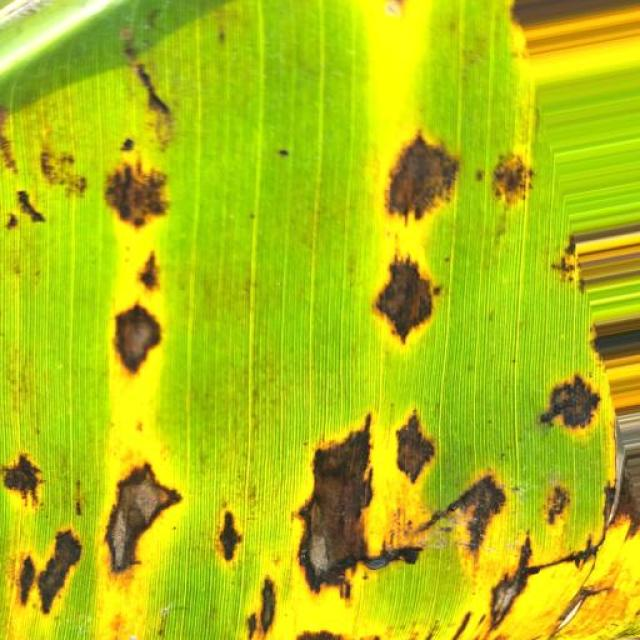Early_rust: (0, 24, 640, 640)
